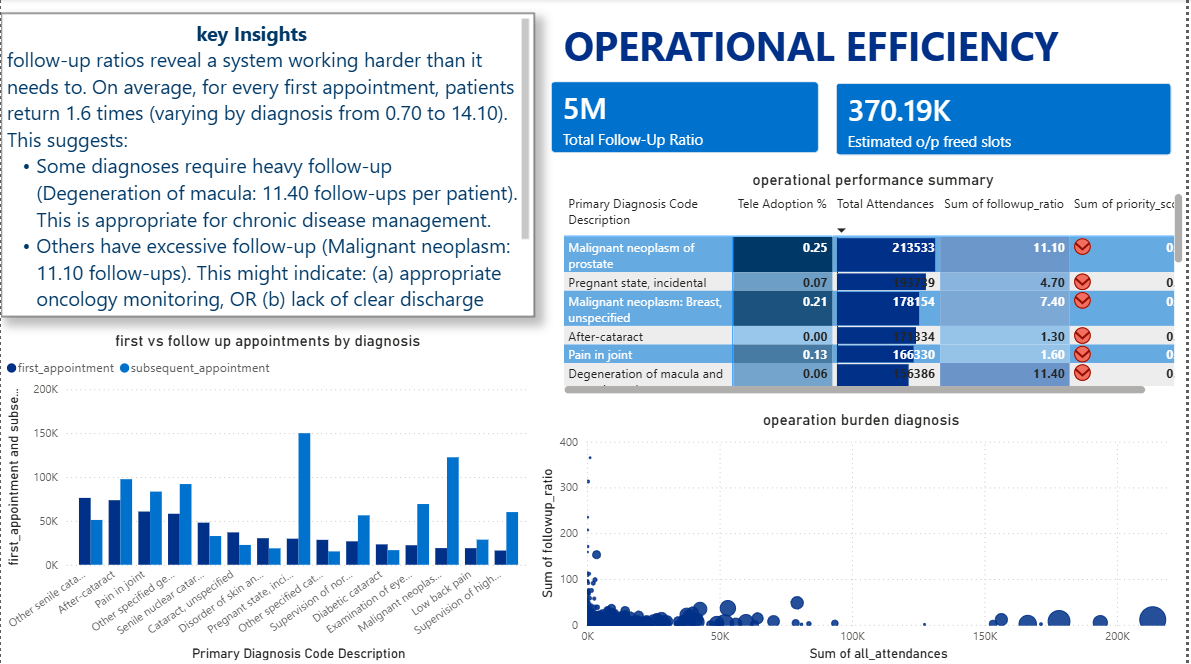

This screenshot's page, from the dashboard's own definition file:
{"tool":"powerbi","page":{"name":"operational efficiency","canvas":[1280,720],"ordinal":2},"visuals":[{"type":"scatterChart","title":"opearation burden diagnosis","fields":{"Y":["Sum(nhs_outpatient_dataaa.followup_ratio)"],"X":["Sum(nhs_outpatient_dataaa.all_attendances)"],"Size":["Sum(nhs_outpatient_dataaa.total_tele)"],"Category":["nhs_outpatient_dataaa.Primary Diagnosis Code Description"]},"box":[576,446,704,274],"z":0},{"type":"clusteredColumnChart","title":"first vs follow up appointments by diagnosis","fields":{"Category":["nhs_outpatient_dataaa.Primary Diagnosis Code Description"],"Y":["Sum(nhs_outpatient_dataaa.first_appointment)","Sum(nhs_outpatient_dataaa.subsequent_appointment)"]},"box":[0,360,576,360],"z":1000},{"type":"pivotTable","title":"operational performance summary","fields":{"Rows":["nhs_outpatient_dataaa.Primary Diagnosis Code Description"],"Values":["nhs_outpatient_dataaa.Tele Adoption %","nhs_outpatient_dataaa.Total Attendances","Sum(nhs_outpatient_dataaa.followup_ratio)","Sum(nhs_outpatient_dataaa.priority_score)"]},"box":[602,186,678,246],"z":2000},{"type":"cardVisual","fields":{"Data":["Sum(nhs_outpatient_dataaa.Slots Freed (Opt Shift))"]},"box":[884,74,396,112],"z":3000},{"type":"cardVisual","fields":{"Data":["Sum(nhs_outpatient_dataaa.subsequent_appointment)"]},"box":[576.7,73.3,323.3,111.7],"z":4000},{"type":"textbox","box":[601.7,16.7,678.3,71.7],"z":5000},{"type":"textbox","box":[0,16,576,328],"z":6000}]}

Visuals, with their boxes in screenshot pixels (x1, y1, x2, y2), scaled from the page's 1280x720 canvas onto the 1191x664 screenshot:
"opearation burden diagnosis" scatterChart: (536, 411, 1190, 663)
"first vs follow up appointments by diagnosis" clusteredColumnChart: (0, 332, 536, 663)
"operational performance summary" pivotTable: (560, 172, 1190, 398)
cardVisual - Sum(nhs_outpatient_dataaa.Slots Freed (Opt Shift)): (823, 68, 1190, 172)
cardVisual - Sum(nhs_outpatient_dataaa.subsequent_appointment): (537, 68, 837, 171)
textbox: (560, 15, 1190, 82)
textbox: (0, 15, 536, 317)
